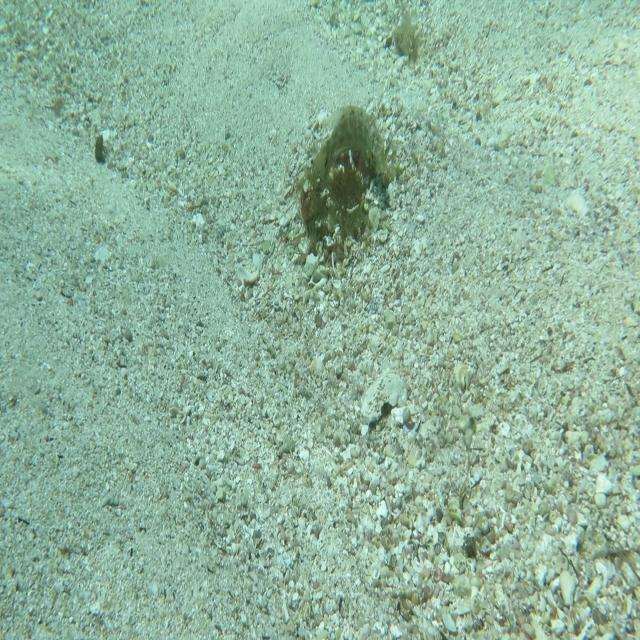SA: (307, 100, 389, 184)
nest: (284, 114, 379, 268)
vegetation: (392, 11, 420, 67), (94, 132, 105, 164)
